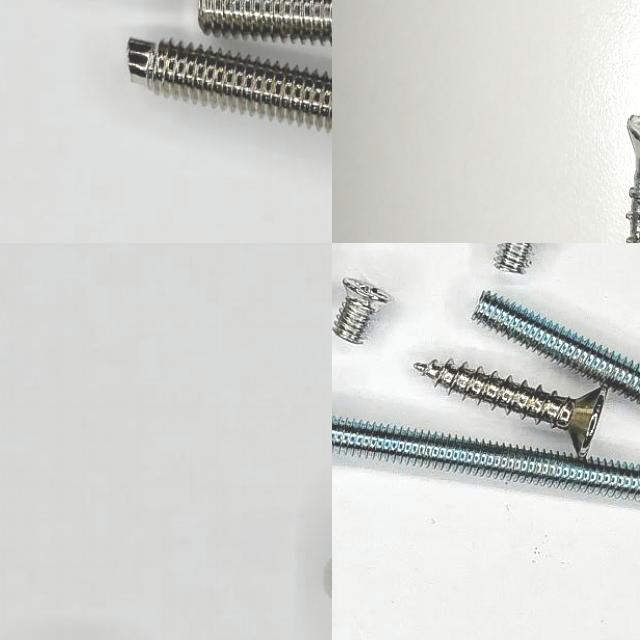Screw: (332, 417, 640, 503), (415, 360, 607, 456), (127, 38, 332, 127), (474, 293, 640, 402), (198, 0, 332, 42), (334, 277, 394, 343), (626, 114, 640, 243), (495, 243, 535, 274)
